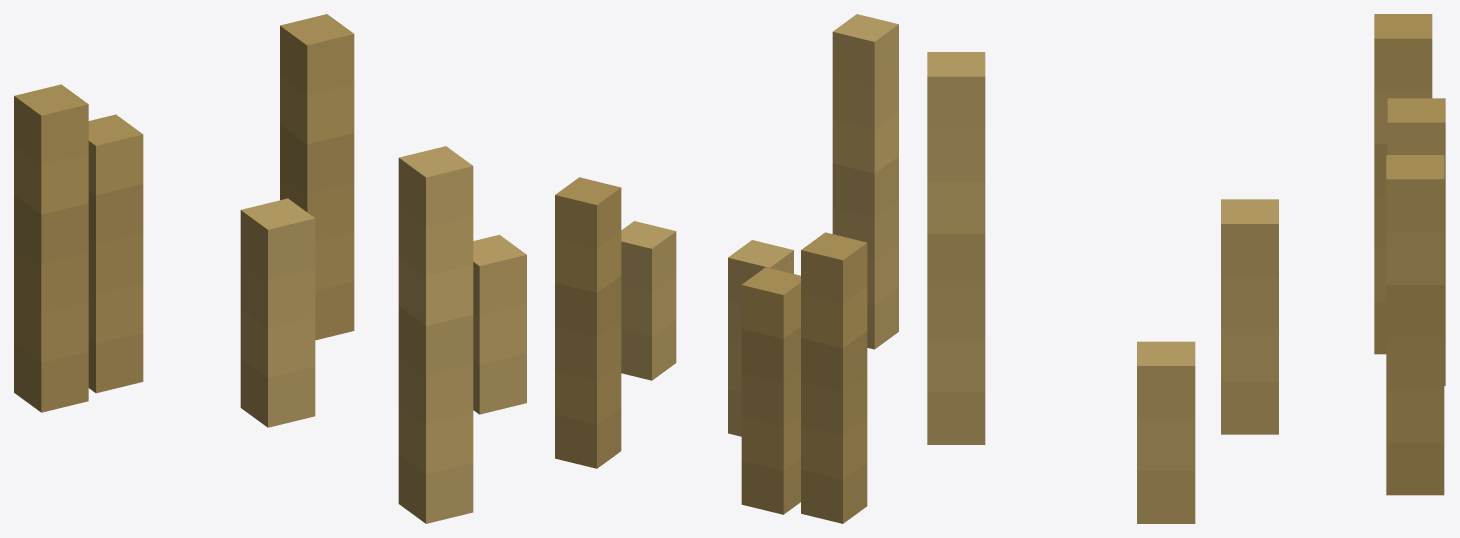
File: dry_grass_1.glb
3 views of the same model, side by side, from view 1: azimuth 30°, elevation 25°; view 2: azimuth 150°, elevation 25°; view 3: azimuth 270°, elevation 25° (orthographic). The views are drawn at different scales.
Visible parts, largest first — view 1: Grass; view 2: Grass; view 3: Grass.
Part boxes in pixels (left/top/right/bottom): Grass: left=14, top=14, right=526, bottom=523; Grass: left=555, top=14, right=898, bottom=523; Grass: left=927, top=14, right=1445, bottom=523.
Size of the model in its own units: 0.3953 by 0.35 by 0.4462.
Materials: 2 (2 with a texture image).
